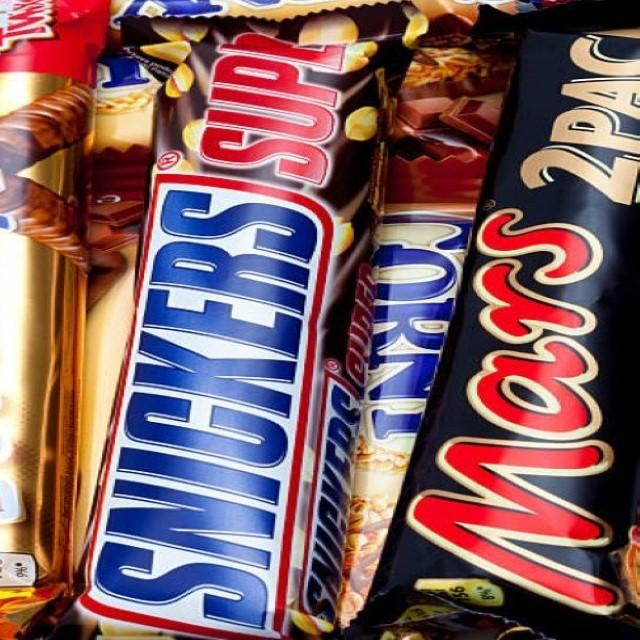mars_chocolate: (428, 51, 640, 638)
snickers_chocolate: (126, 20, 352, 627)
